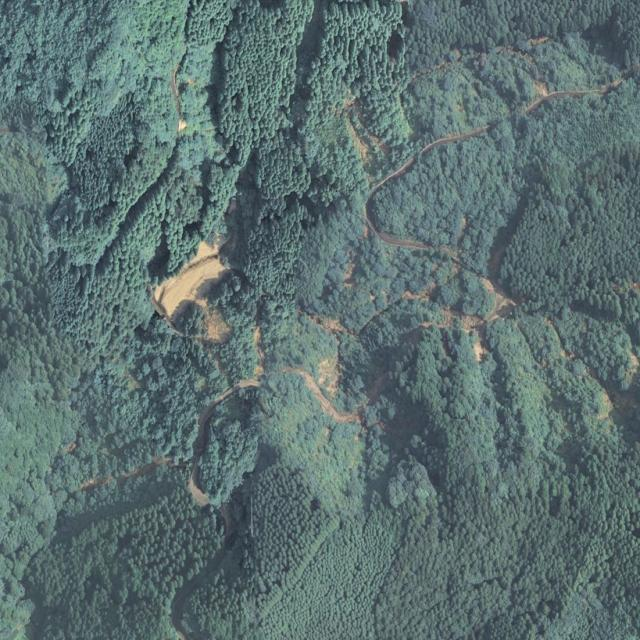landslide: (151, 241, 231, 343)
